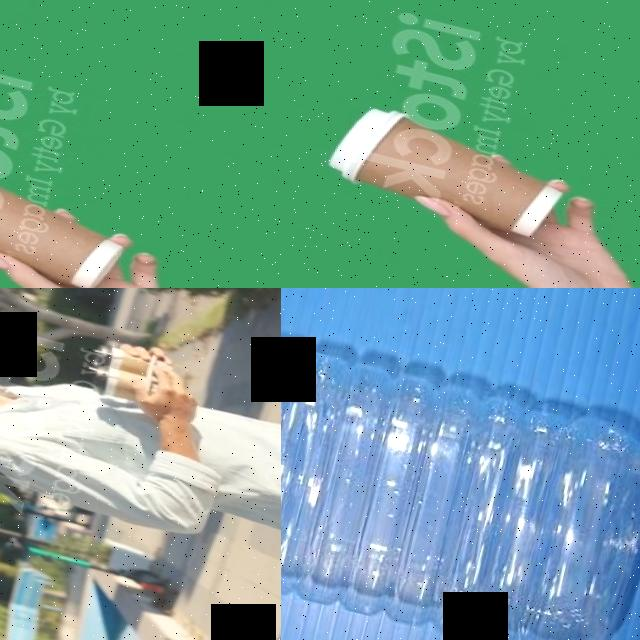bottle: (281, 290, 640, 640)
cup: (319, 96, 581, 250), (0, 151, 136, 288), (86, 361, 155, 409), (82, 338, 157, 382)
